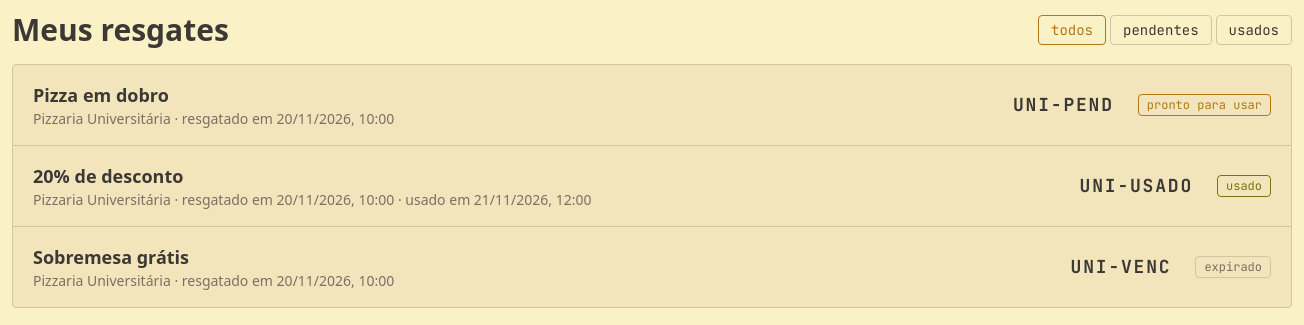
Test: Histórico de resgates do estudante › filtra pendentes e usados
The image size is (1304, 325).
Step 1. Click the button "pendentes" → (1161, 30), box [1110,15,1212,45]
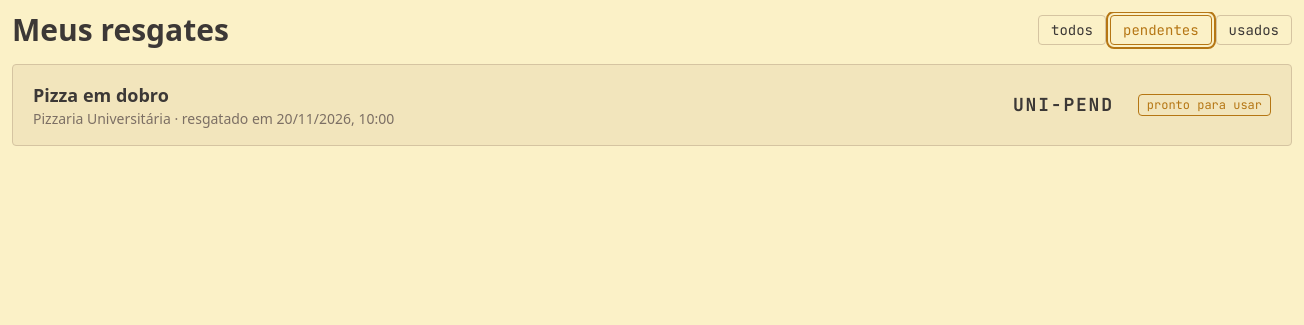
Expected: the text "UNI-PEND" is shown, [1013,91,1114,119]
Now the number of list items is 1, box [33,83,1271,128]
Step 2. Click the button "usados" → (1254, 30), box [1216,15,1292,45]
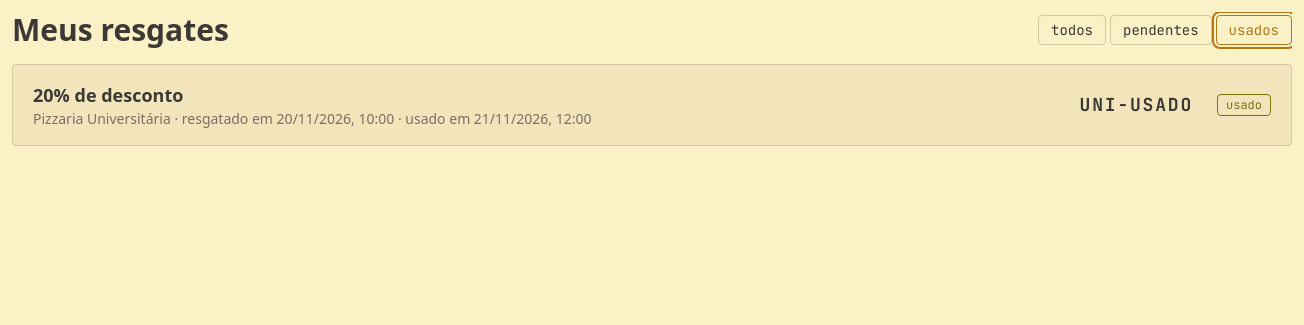
Now the number of list items is 1, box [33,83,1271,128]
Now the text "UNI-USADO" is shown, box [1080,91,1193,119]
